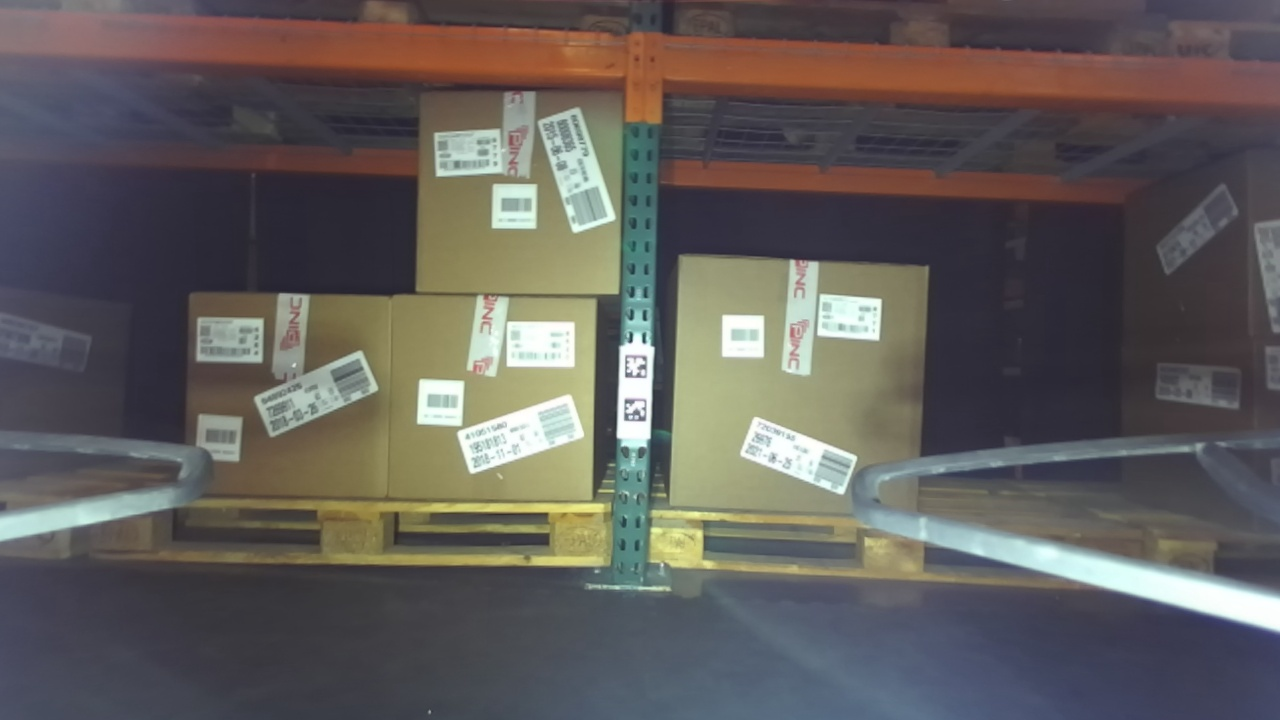box: (659, 230, 940, 539), (367, 276, 607, 539), (392, 53, 637, 308), (165, 262, 404, 514)
